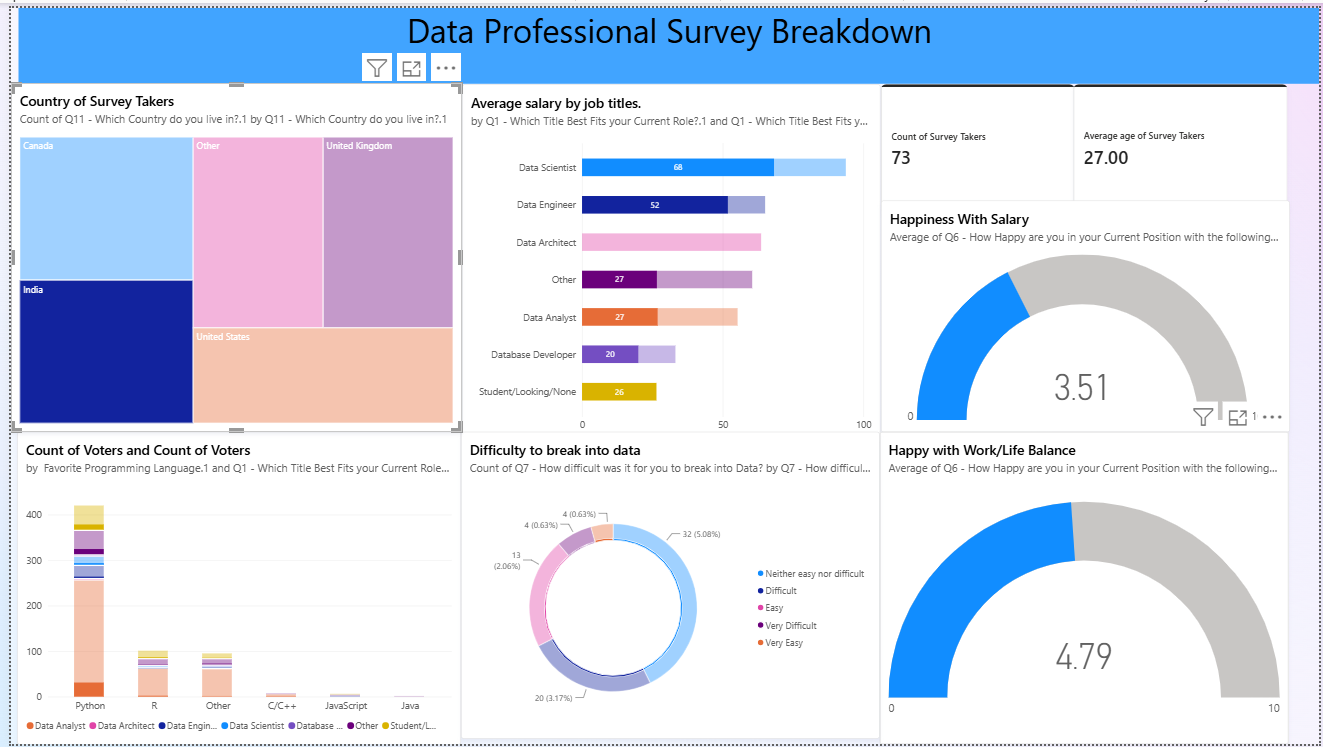

This screenshot's page, from the dashboard's own definition file:
{"tool":"powerbi","page":{"name":"Page 1","canvas":[1920,1080],"ordinal":0},"visuals":[{"type":"textbox","box":[10.3,0,1910.1,111.1],"z":0},{"type":"cardVisual","fields":{"Data":["CountNonNull(Data Professional Survey.Unique ID)"]},"box":[1276,112,284,190],"z":1},{"type":"cardVisual","fields":{"Data":["Avg(Data Professional Survey.Q10 - Current Age)"]},"box":[1560,112,314,188],"z":2},{"type":"barChart","fields":{"Category":["Data Professional Survey.Q1 - Which Title Best Fits your Current Role?.1"],"Series":["Data Professional Survey.Q1 - Which Title Best Fits your Current Role?.1"],"Y":["Avg(Data Professional Survey.Average Salary)"]},"box":[662,112,613.7,527.5],"z":3},{"type":"columnChart","fields":{"Category":["Data Professional Survey.Q5 - Favorite Programming Language.1"],"Series":["Data Professional Survey.Q1 - Which Title Best Fits your Current Role?.1"],"Y":["CountNonNull(Data Professional Survey.Unique ID)"]},"box":[9.8,621.6,651,458.8],"z":4},{"type":"treemap","title":"Country of Survey Takers","fields":{"Group":["Data Professional Survey.Q11 - Which Country do you live in?.1"],"Values":["Count(Data Professional Survey.Q11 - Which Country do you live in?.1)"]},"box":[0,110,662,512],"z":5},{"type":"gauge","title":"Happiness With Salary","fields":{"MaxValue":["Max(Data Professional Survey.Q6 - How Happy are you in your Current Position with the following? (Salary))"],"MinValue":["Min(Data Professional Survey.Q6 - How Happy are you in your Current Position with the following? (Salary))"],"Y":["Avg(Data Professional Survey.Q6 - How Happy are you in your Current Position with the following? (Salary))"]},"box":[1276,282,600,340],"z":6},{"type":"gauge","title":"Happy with Work/Life Balance","fields":{"MaxValue":["Max(Data Professional Survey.Q6 - How Happy are you in your Current Position with the following? (Work/Life Balance))1"],"MinValue":["Min(Data Professional Survey.Q6 - How Happy are you in your Current Position with the following? (Work/Life Balance))"],"Y":["Avg(Data Professional Survey.Q6 - How Happy are you in your Current Position with the following? (Work/Life Balance))"]},"box":[1274,622,600,458],"z":7},{"type":"donutChart","title":"Difficulty to break into data","fields":{"Category":["Data Professional Survey.Q7 - How difficult was it for you to break into Data?"],"Y":["CountNonNull(Data Professional Survey.Q7 - How difficult was it for you to break into Data?)"]},"box":[660,622,614,450],"z":8}]}

Visuals, with their boxes in screenshot pixels (x1, y1, x2, y2), scaled from the page's 1920x1080 canvas onto the 1323x747 screenshot:
textbox: box(7, 0, 1322, 77)
cardVisual - CountNonNull(Data Professional Survey.Unique ID): box(879, 77, 1075, 209)
cardVisual - Avg(Data Professional Survey.Q10 - Current Age): box(1075, 77, 1291, 208)
barChart - Data Professional Survey.Q1 - Which Title Best Fits your Current Role?.1 x Data Professional Survey.Q1 - Which Title Best Fits your Current Role?.1: box(456, 77, 879, 442)
columnChart - Data Professional Survey.Q5 - Favorite Programming Language.1 x Data Professional Survey.Q1 - Which Title Best Fits your Current Role?.1: box(7, 430, 455, 746)
"Country of Survey Takers" treemap: box(0, 76, 456, 430)
"Happiness With Salary" gauge: box(879, 195, 1293, 430)
"Happy with Work/Life Balance" gauge: box(878, 430, 1291, 746)
"Difficulty to break into data" donutChart: box(455, 430, 878, 741)
